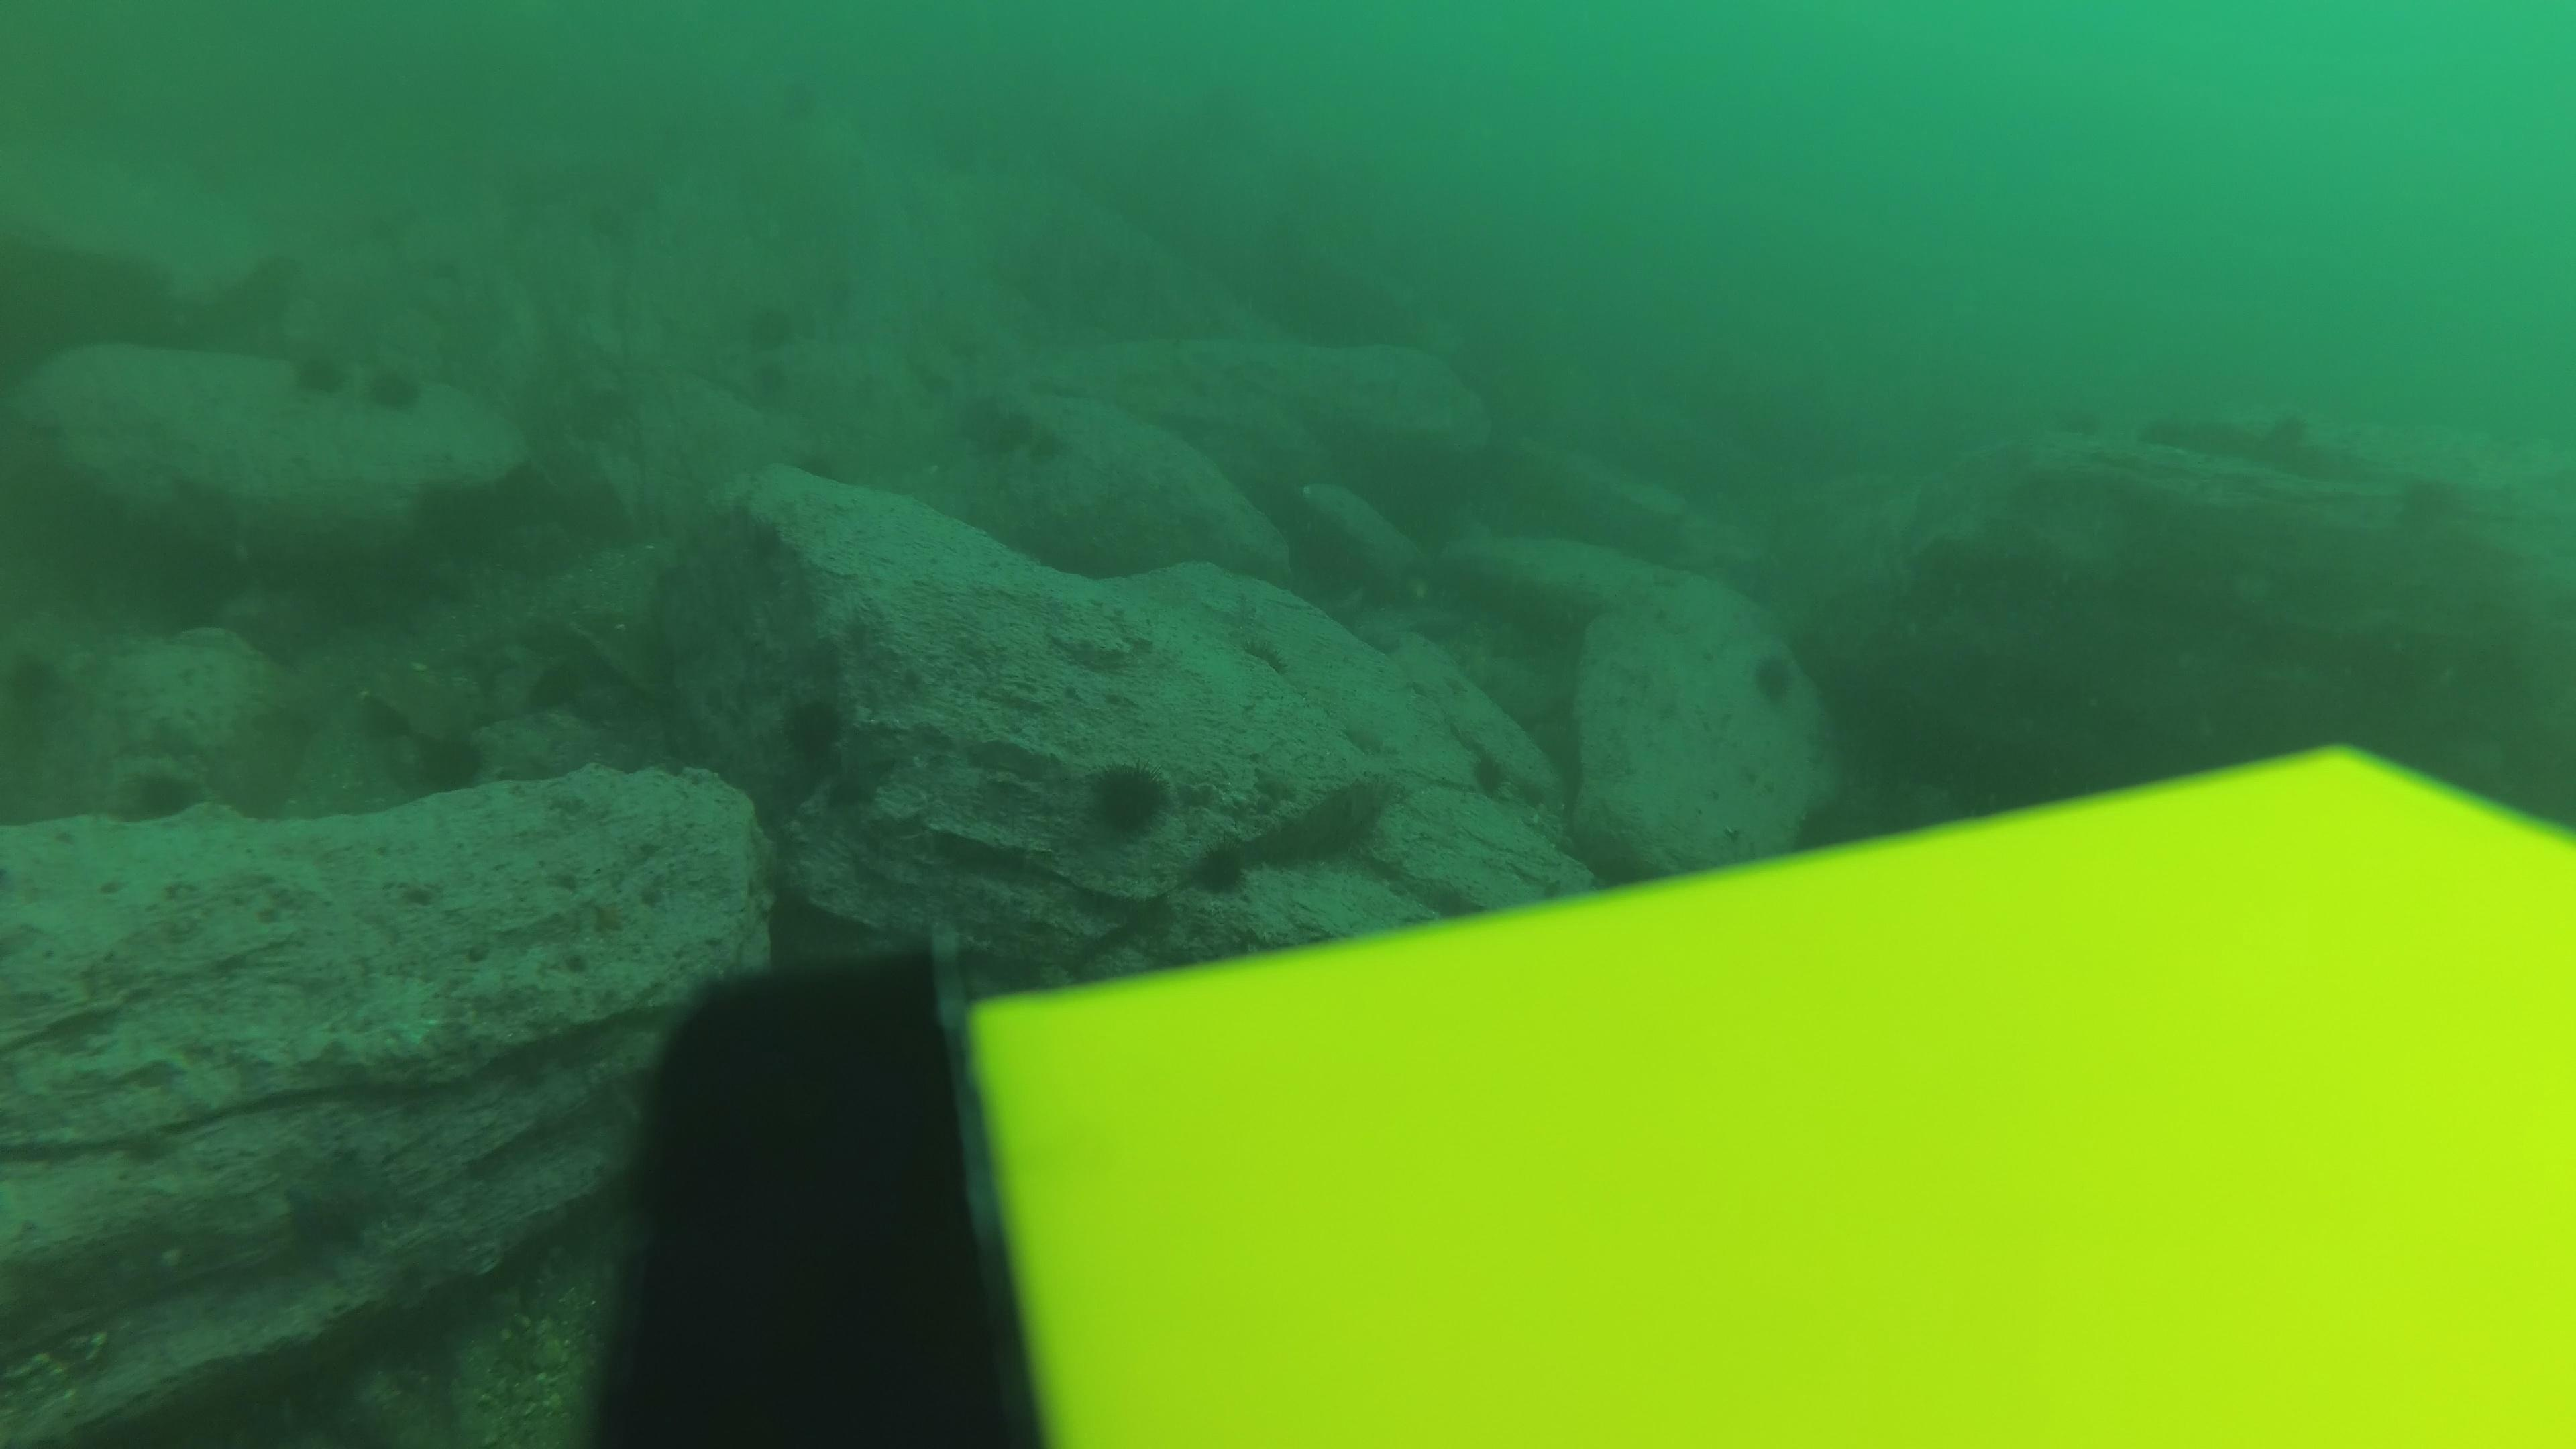echinus: (1074, 755, 1178, 847), (400, 720, 497, 801), (773, 686, 858, 775), (115, 759, 207, 830), (1184, 835, 1260, 901), (283, 343, 352, 407), (533, 655, 603, 717), (361, 357, 428, 421), (1744, 644, 1805, 711), (1237, 633, 1293, 681), (2063, 402, 2118, 449), (2256, 405, 2309, 453), (2396, 474, 2449, 522), (747, 359, 789, 400), (748, 518, 791, 559), (1000, 405, 1040, 446), (798, 446, 839, 487), (961, 396, 1003, 435), (1463, 750, 1507, 787), (752, 308, 793, 347)
starfish: (272, 1141, 398, 1260), (1254, 763, 1299, 805)
